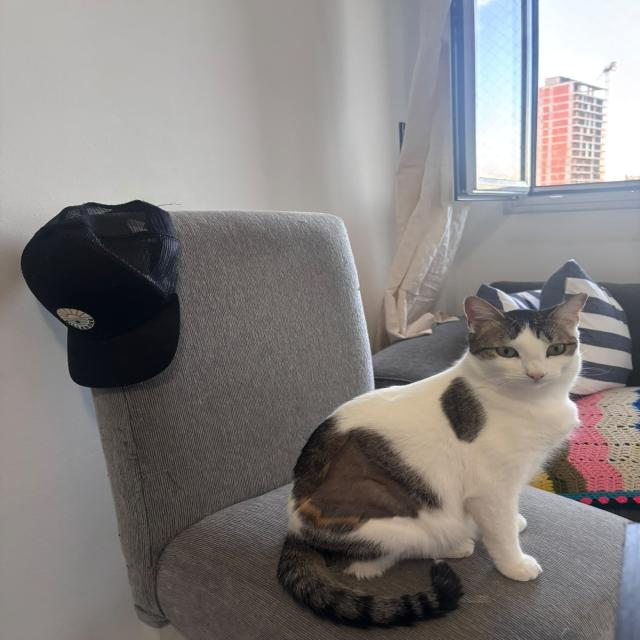Gorra: (16, 198, 192, 394)
